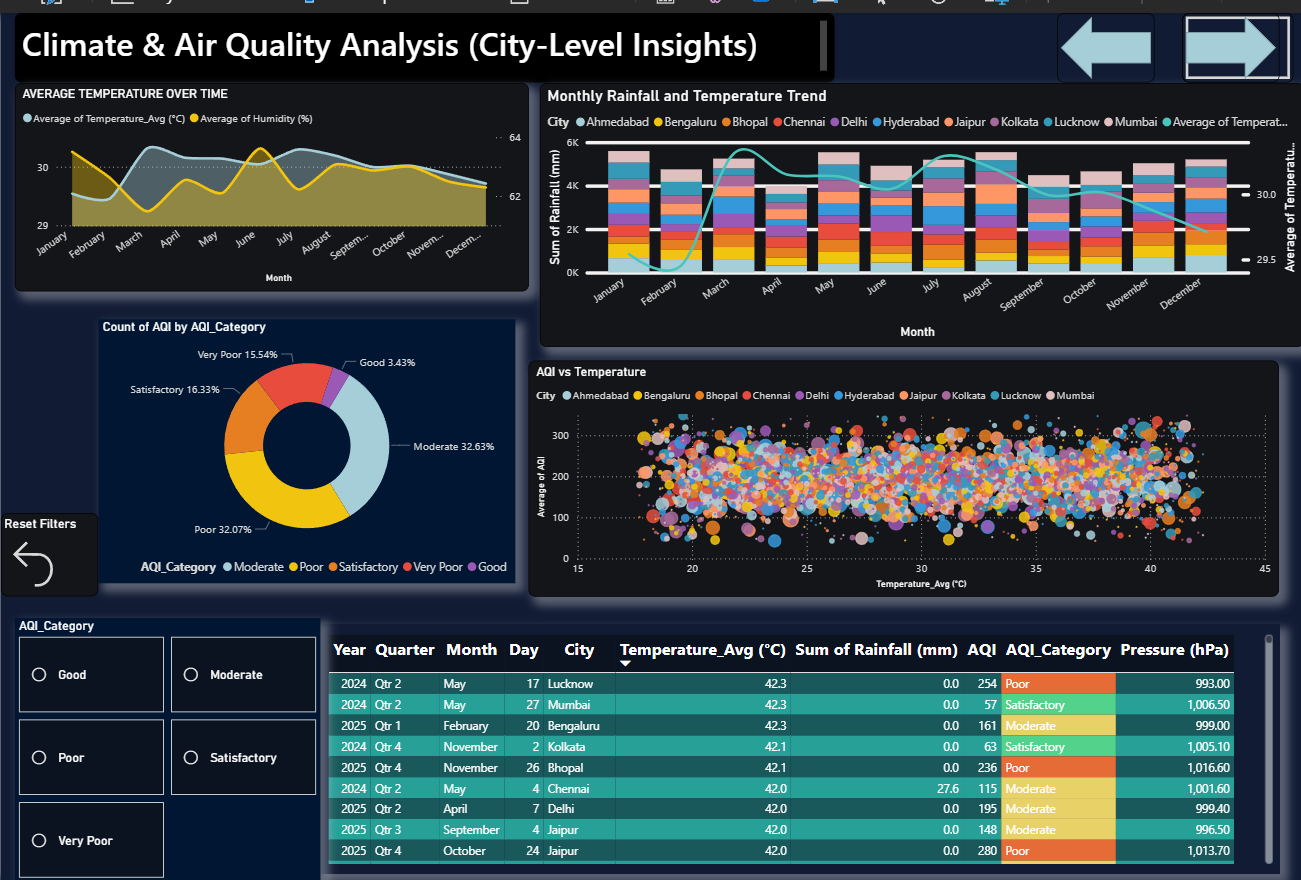

The page's visual inventory and layout, read from the dashboard file:
{"tool":"powerbi","page":{"name":"Climate & Air Quality Analysis","canvas":[1500,1000],"ordinal":2},"visuals":[{"type":"textbox","box":[16,0,944,80],"z":0},{"type":"areaChart","title":"AVERAGE TEMPERATURE OVER TIME","fields":{"Category":["Indian_Climate_Dataset_2024_2025.Date.Variation.Date Hierarchy.Month"],"Y":["Avg(Indian_Climate_Dataset_2024_2025.Temperature_Avg (°C))"],"Y2":["Avg(Indian_Climate_Dataset_2024_2025.Humidity (%))"]},"box":[16,80,592,240],"z":1000},{"type":"lineStackedColumnComboChart","title":"Monthly Rainfall and Temperature Trend","fields":{"Category":["Indian_Climate_Dataset_2024_2025.Date.Variation.Date Hierarchy.Month"],"Series":["Indian_Climate_Dataset_2024_2025.City"],"Y":["Sum(Indian_Climate_Dataset_2024_2025.Rainfall (mm))"],"Y2":["Avg(Indian_Climate_Dataset_2024_2025.Temperature_Avg (°C))"]},"box":[620,80,880,304],"z":2000},{"type":"donutChart","fields":{"Category":["Indian_Climate_Dataset_2024_2025.AQI_Category"],"Y":["CountNonNull(Indian_Climate_Dataset_2024_2025.AQI)"]},"box":[112,352,480,304],"z":3000},{"type":"scatterChart","title":"AQI vs Temperature","fields":{"Series":["Indian_Climate_Dataset_2024_2025.City"],"Size":["Sum(Indian_Climate_Dataset_2024_2025.Rainfall (mm))"],"X":["Indian_Climate_Dataset_2024_2025.Temperature_Avg (°C)"],"Y":["Avg(Indian_Climate_Dataset_2024_2025.AQI)"]},"box":[608,400,864,272],"z":4000},{"type":"tableEx","fields":{"Values":["Indian_Climate_Dataset_2024_2025.Date.Variation.Date Hierarchy.Year","Indian_Climate_Dataset_2024_2025.Date.Variation.Date Hierarchy.Quarter","Indian_Climate_Dataset_2024_2025.Date.Variation.Date Hierarchy.Month","Indian_Climate_Dataset_2024_2025.Date.Variation.Date Hierarchy.Day","Indian_Climate_Dataset_2024_2025.City","Indian_Climate_Dataset_2024_2025.Temperature_Avg (°C)","Sum(Indian_Climate_Dataset_2024_2025.Rainfall (mm))","Indian_Climate_Dataset_2024_2025.AQI","Indian_Climate_Dataset_2024_2025.AQI_Category"]},"box":[400.7,672.9,1071.9,319.5],"z":5000},{"type":"advancedSlicerVisual","fields":{"Values":["Indian_Climate_Dataset_2024_2025.AQI_Category"]},"box":[16,696,352,304],"z":6000},{"type":"shape","box":[1360,0,112,80],"z":7000},{"type":"shape","box":[1216,0,112,80],"z":8000},{"type":"actionButton","box":[0,576.5,111.6,120],"z":9000}]}

Visuals, with their boxes in screenshot pixels (x1, y1, x2, y2), scaled from the page's 1500x1000 canvas onto the 1301x880 screenshot:
textbox: <region>14, 0, 833, 70</region>
"AVERAGE TEMPERATURE OVER TIME" areaChart: <region>14, 70, 527, 282</region>
"Monthly Rainfall and Temperature Trend" lineStackedColumnComboChart: <region>538, 70, 1300, 338</region>
donutChart - Indian_Climate_Dataset_2024_2025.AQI_Category x CountNonNull(Indian_Climate_Dataset_2024_2025.AQI): <region>97, 310, 513, 577</region>
"AQI vs Temperature" scatterChart: <region>527, 352, 1277, 591</region>
tableEx - Indian_Climate_Dataset_2024_2025.Date.Variation.Date Hierarchy.Year x Indian_Climate_Dataset_2024_2025.Date.Variation.Date Hierarchy.Quarter: <region>348, 592, 1277, 873</region>
advancedSlicerVisual - Indian_Climate_Dataset_2024_2025.AQI_Category: <region>14, 612, 319, 879</region>
shape: <region>1180, 0, 1277, 70</region>
shape: <region>1055, 0, 1152, 70</region>
actionButton: <region>0, 507, 97, 613</region>
